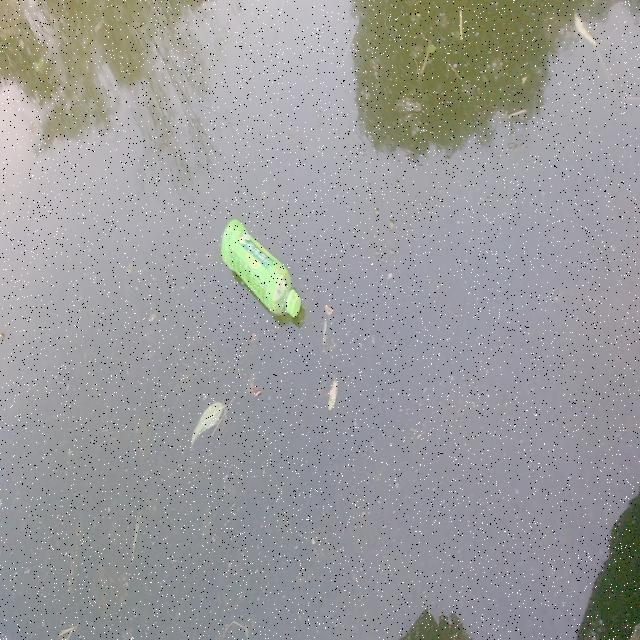Bottle: (217, 216, 304, 323)
